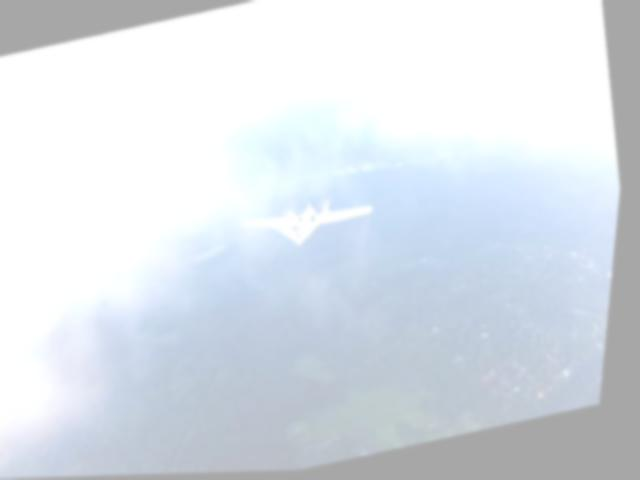uav: (240, 189, 384, 259)
